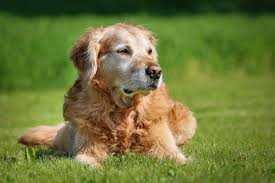Bulldog: (21, 9, 221, 174)
